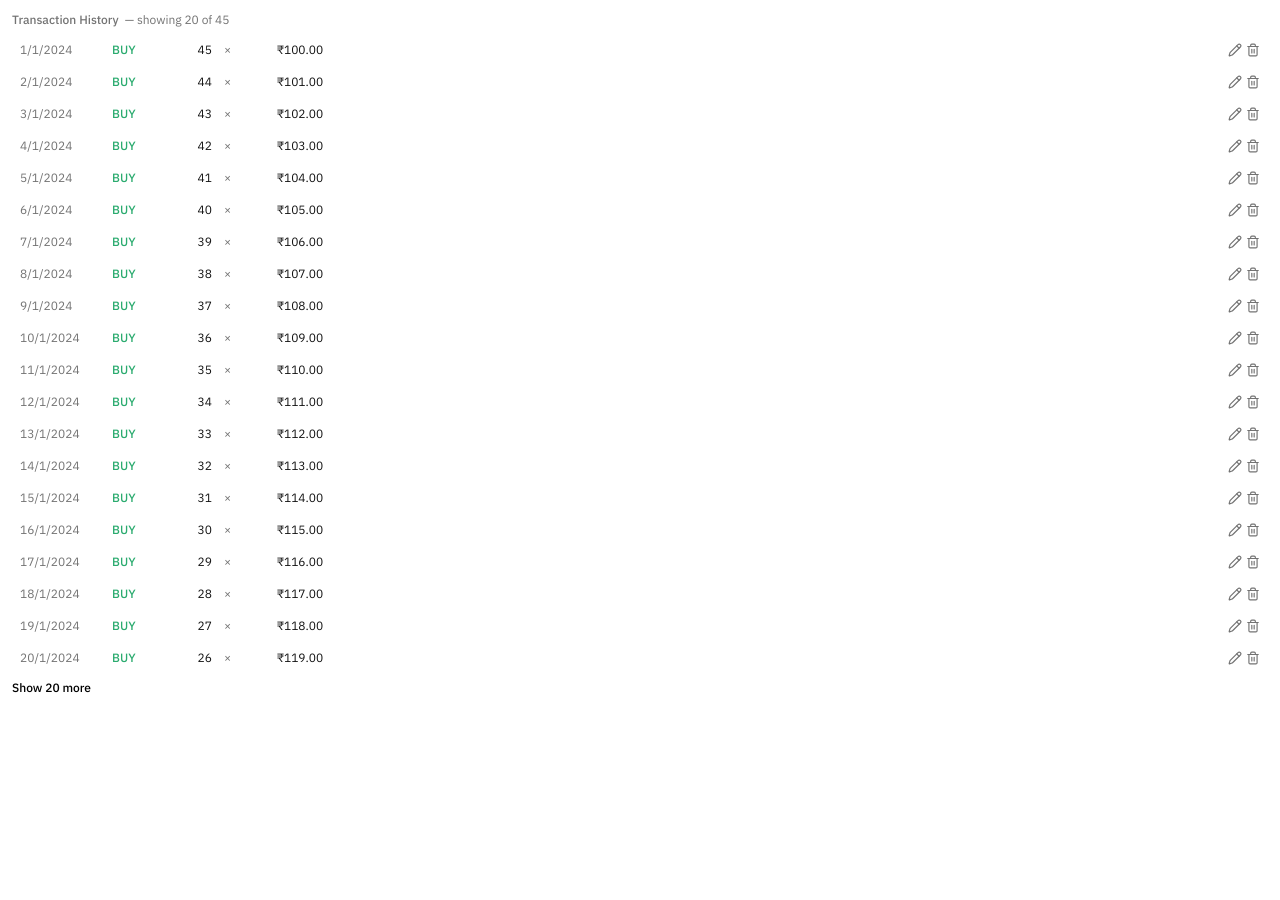
Test: TransactionHistory paging › appends a page per click and offers only the remainder on the last one
Click the button "Show 20 more" at [52, 688], box [12,680,91,696]
(page scrolled)
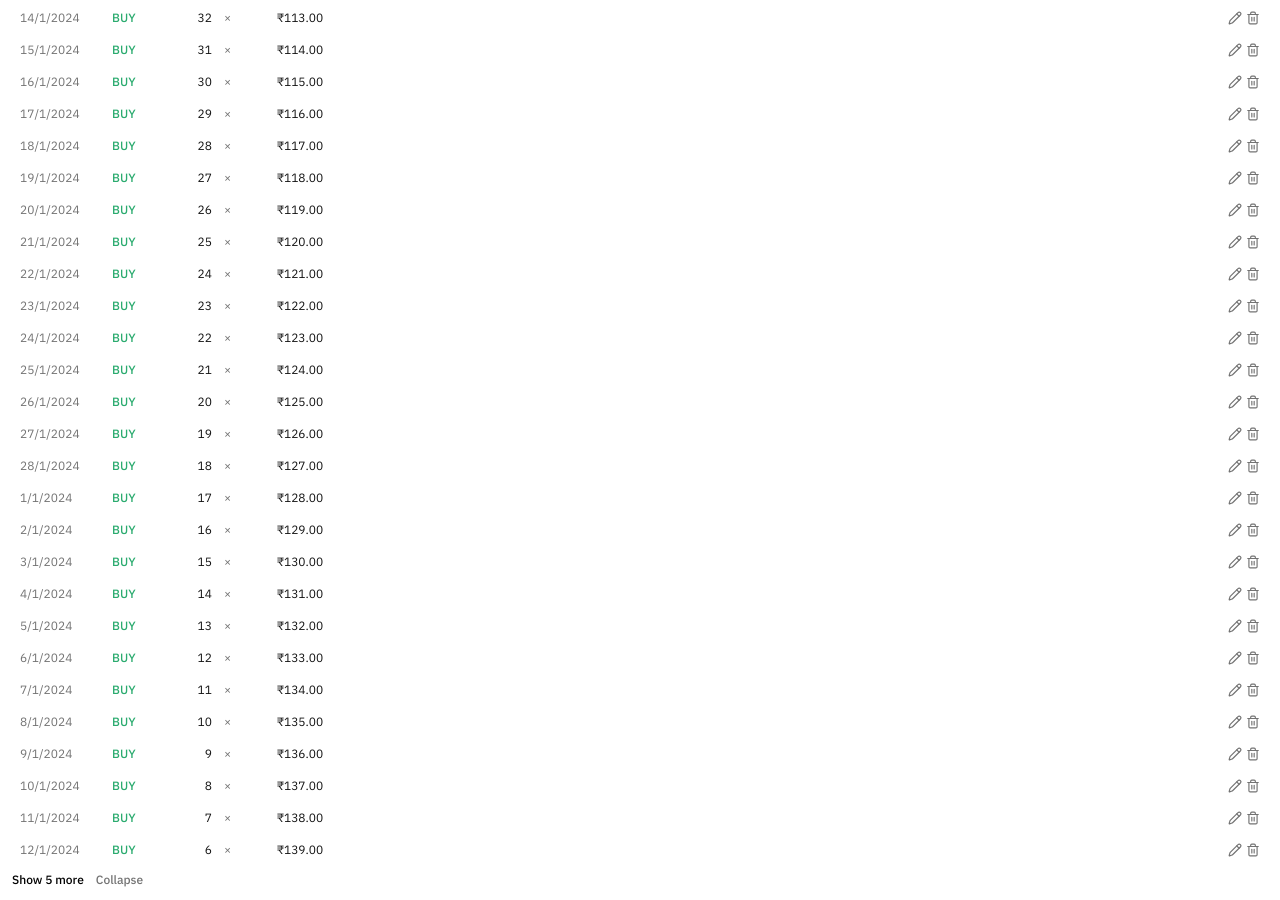
// 5 left, not another full page.
Click the button "Show 5 more" at [48, 880], box [12,872,84,888]
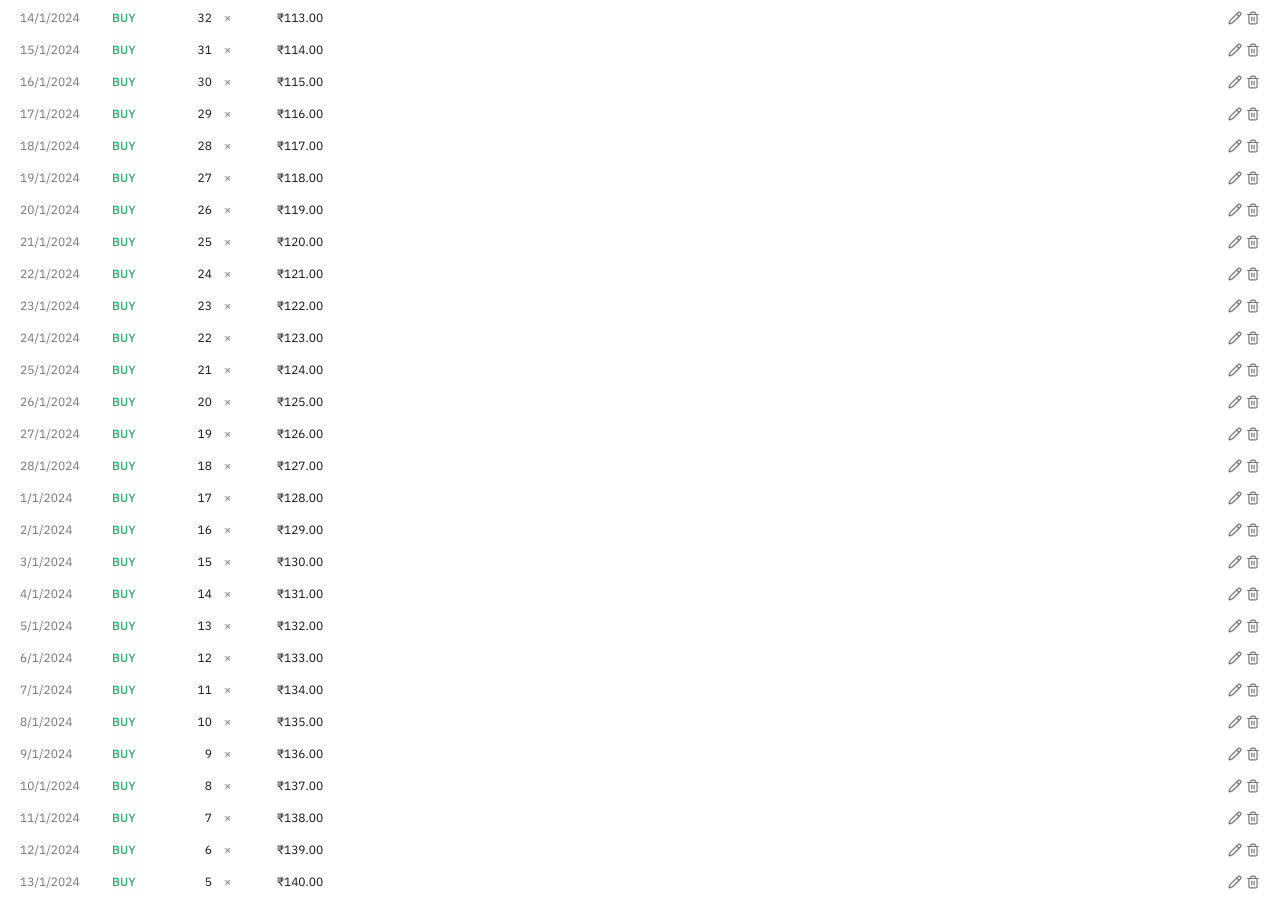
Result: the button "Show 5 more" is gone
